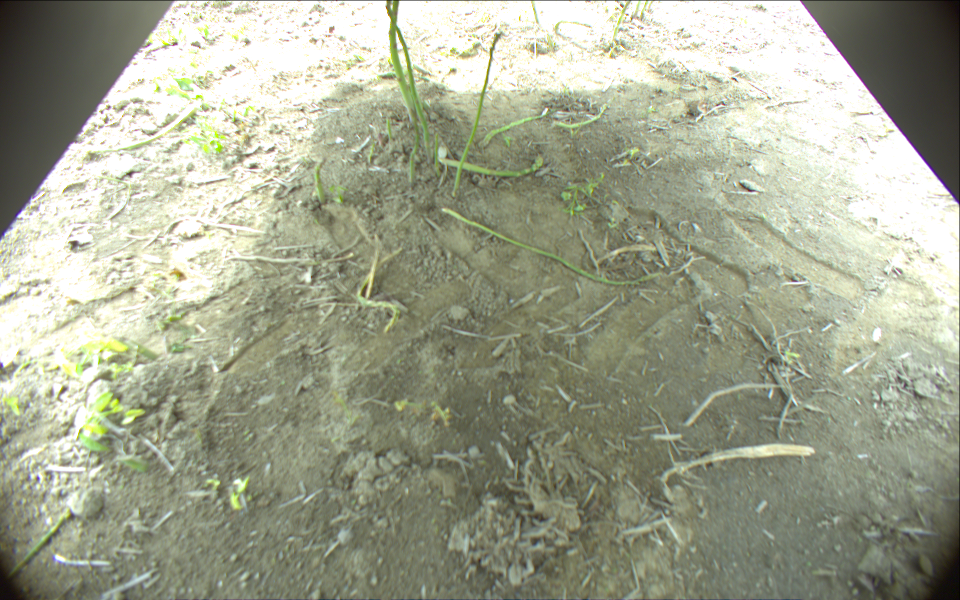aspa: (443, 208, 661, 289), (451, 32, 503, 197), (385, 1, 430, 158), (87, 98, 200, 156), (389, 1, 421, 182), (1, 508, 73, 584), (357, 247, 405, 330), (478, 106, 549, 149), (439, 151, 545, 179), (553, 100, 608, 129), (612, 1, 629, 44), (313, 155, 328, 203), (554, 19, 592, 34), (433, 126, 443, 167), (529, 1, 541, 26), (386, 117, 394, 143), (633, 1, 642, 19), (641, 1, 646, 21), (647, 1, 652, 13)
